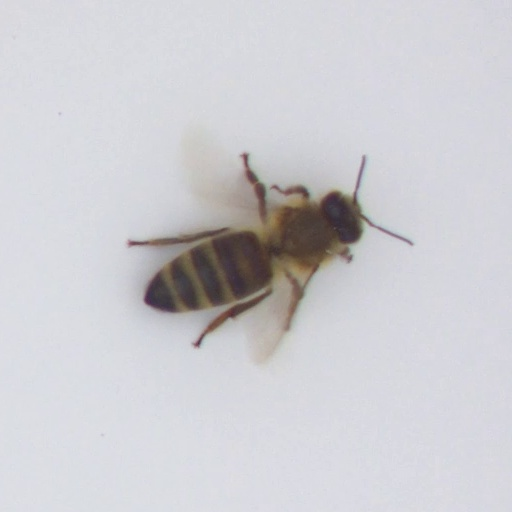Bee: (126, 181, 384, 325)
Thorax: (266, 198, 334, 267)
